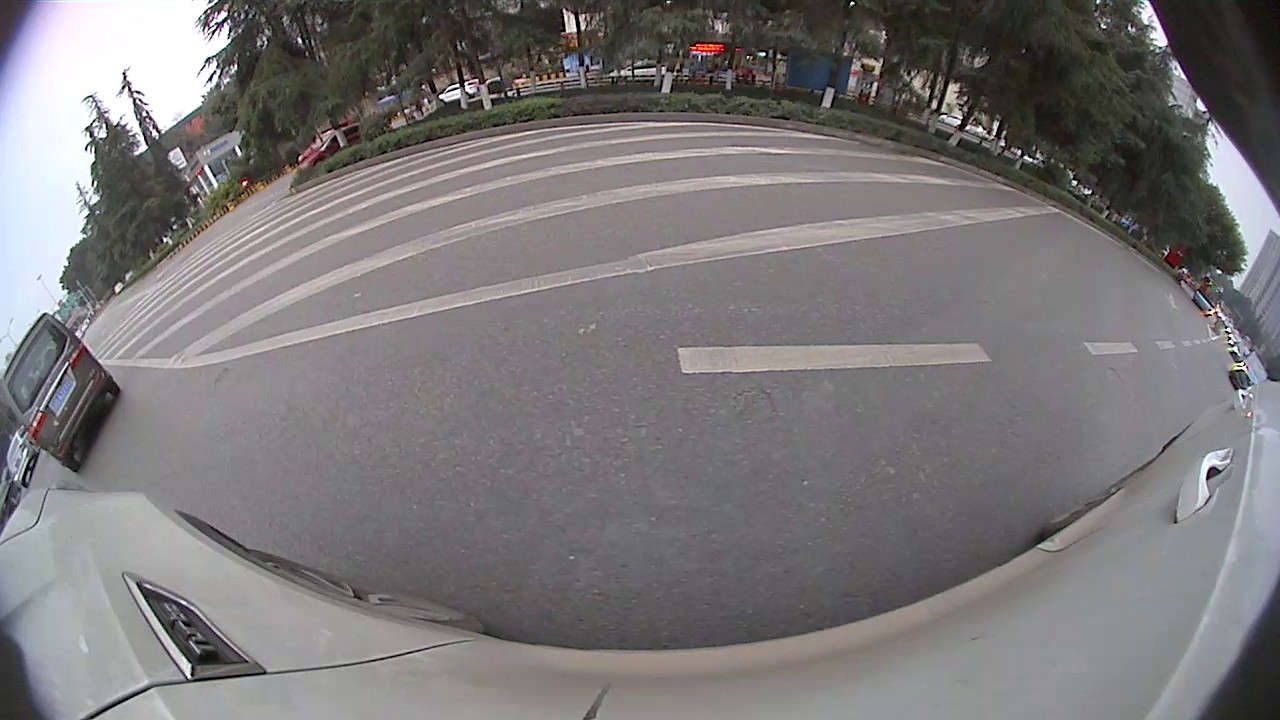bus: (1188, 271, 1228, 317)
car: (0, 306, 125, 477), (1, 422, 45, 489), (1226, 345, 1272, 394)
